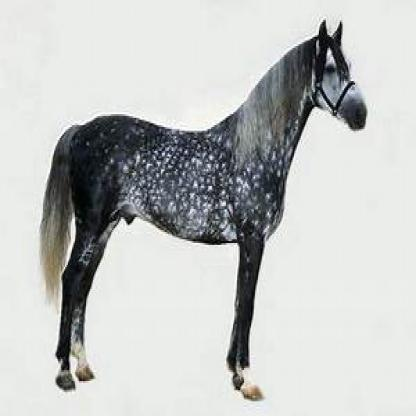horse: (39, 20, 369, 403)
